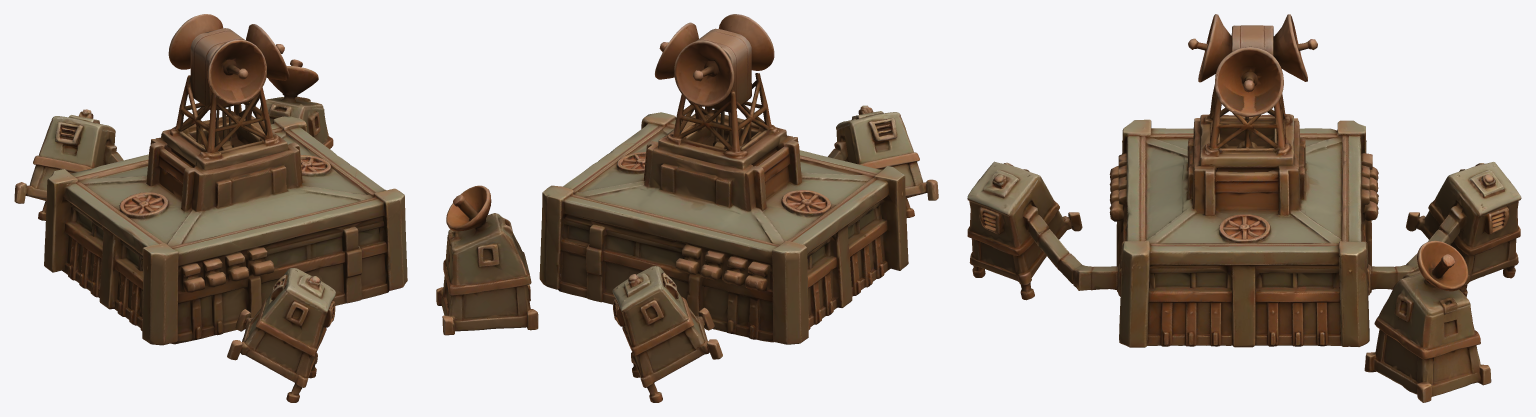
Rendered from radiotower.glb.
3 renders of one model, left to right at view 1: azimuth 30°, elevation 25°; view 2: azimuth 150°, elevation 25°; view 3: azimuth 270°, elevation 25°, orthographic. The views are drawn at different scales.
Parts seen in each view (by area): view 1: tripo_node_625ff2f3-08aa-4e35-93b5-b9b882d701ad; view 2: tripo_node_625ff2f3-08aa-4e35-93b5-b9b882d701ad; view 3: tripo_node_625ff2f3-08aa-4e35-93b5-b9b882d701ad.
Part boxes in pixels (box(x1,y1,x2,y2)): tripo_node_625ff2f3-08aa-4e35-93b5-b9b882d701ad: box(14, 14, 407, 402); tripo_node_625ff2f3-08aa-4e35-93b5-b9b882d701ad: box(436, 14, 938, 402); tripo_node_625ff2f3-08aa-4e35-93b5-b9b882d701ad: box(967, 14, 1521, 402).
Size of the model in its own units: 0.7321 by 0.5732 by 1.
1 material, 1 textured.
